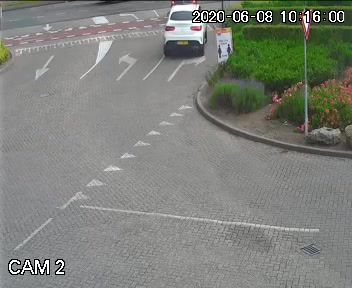car: (161, 4, 209, 60)
